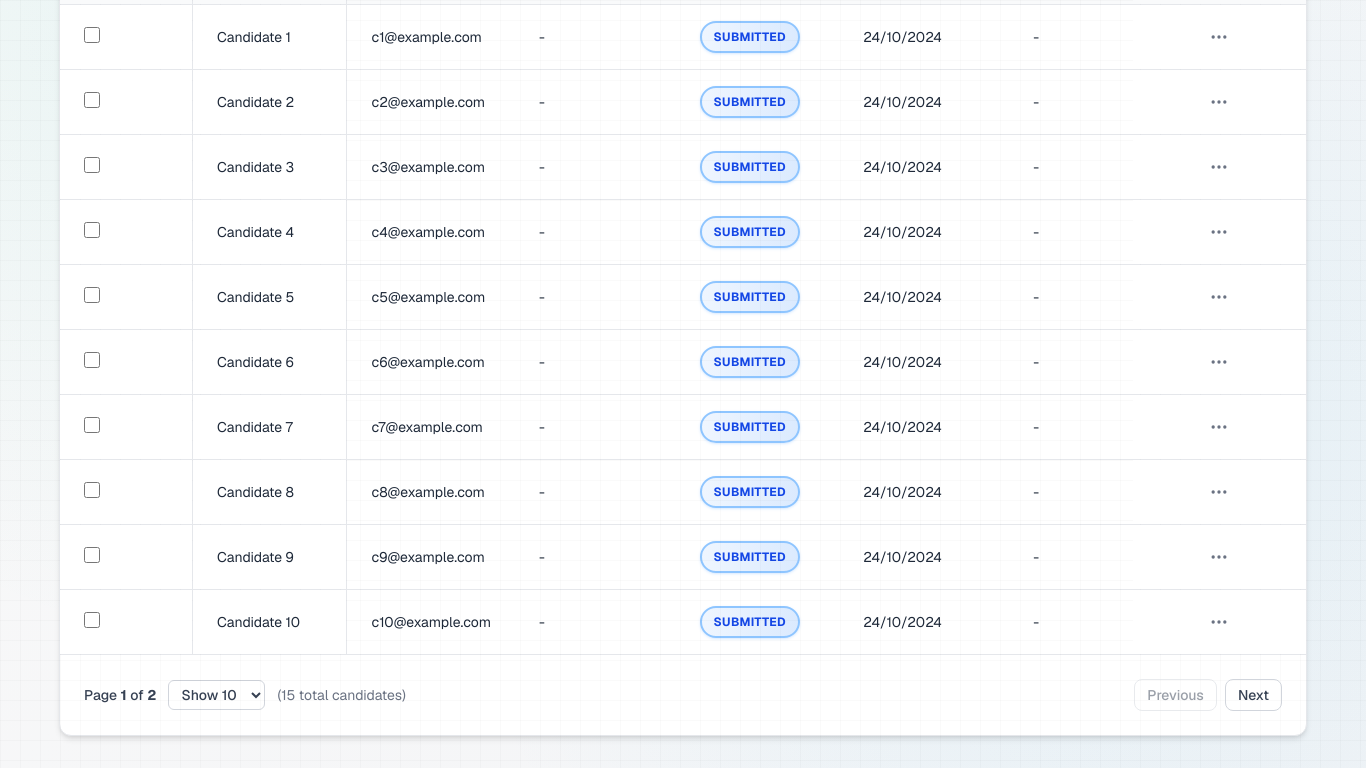
Test case: ManageCandidatesPage › handles pagination correctly
(page scrolled)
expect the text "Candidate 1" is shown: met, box [192,4,347,70]
expect the button "Previous" is disabled: met, box [1134,679,1217,711]
Note: Klik Next
Step 1. Click the button "Next" → click(1253, 695), box [1225,679,1282,711]
(page scrolled)
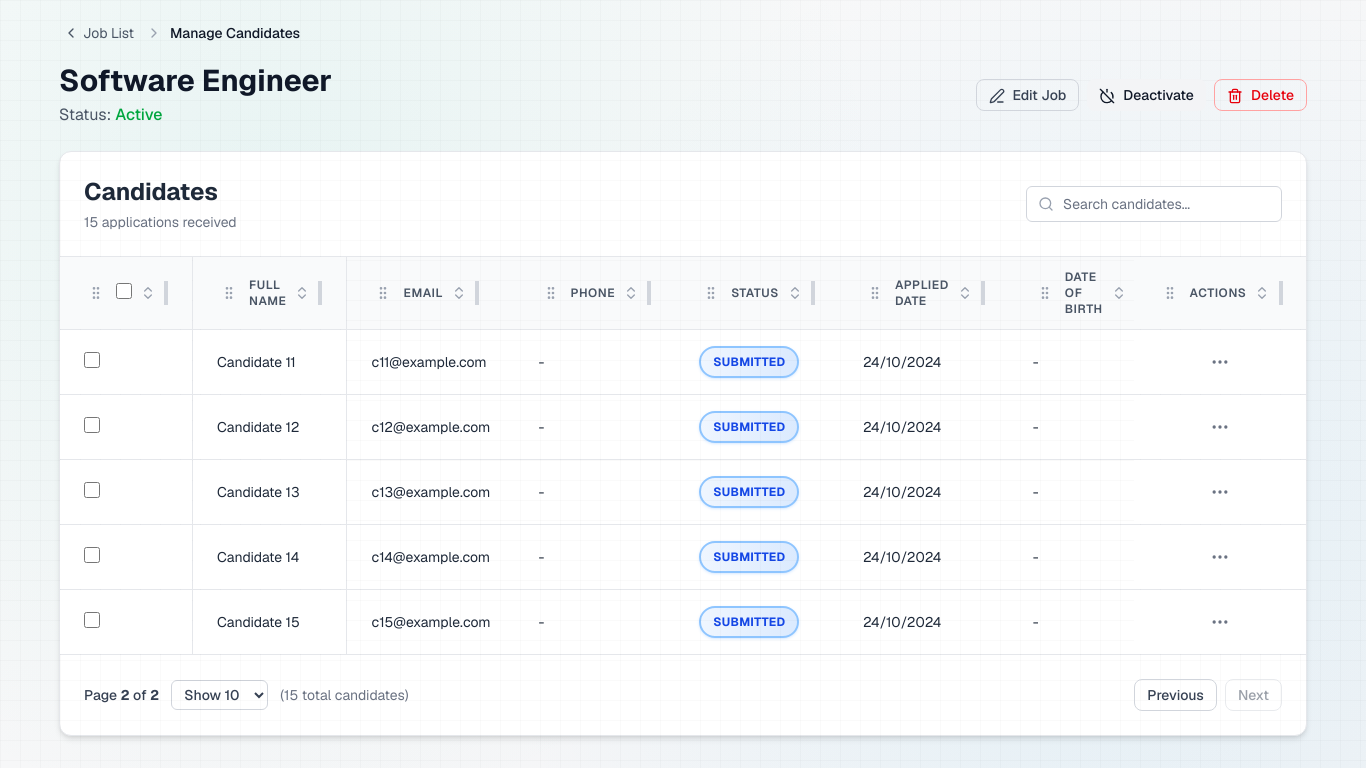
expect the text "Candidate 11" is shown: met, box [192,330,347,394]
expect the button "Previous" is enabled: met, box [1134,679,1217,711]
expect the button "Next" is disabled: met, box [1225,679,1282,711]
